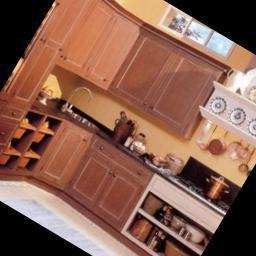Armario: (0, 0, 100, 182)
Lavaplatos: (53, 79, 115, 136)
